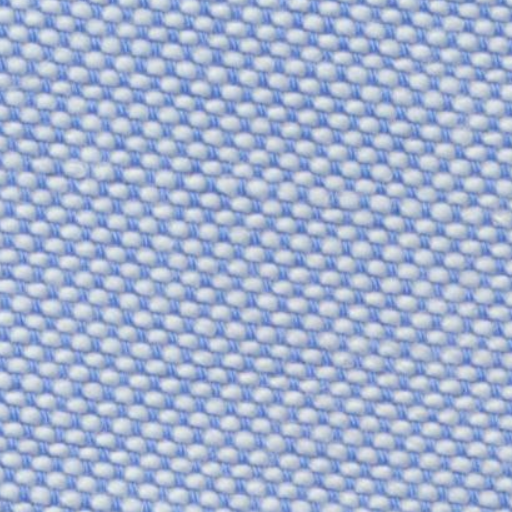TuoSha: (5, 122, 496, 239)
